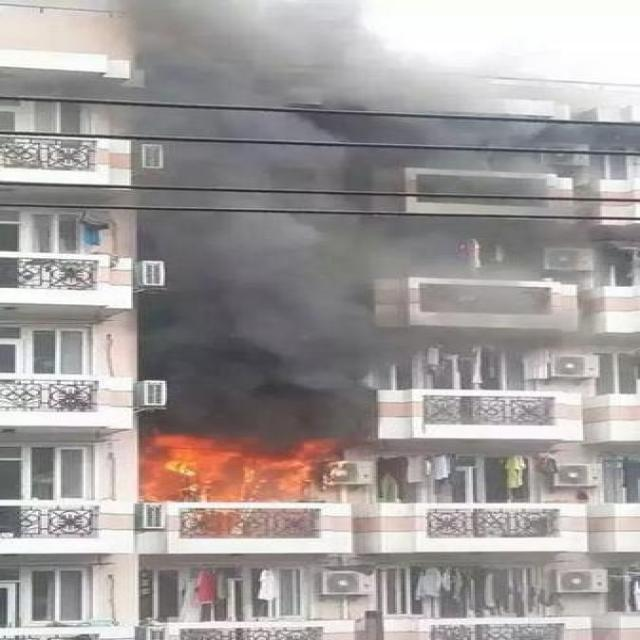Smoke: (57, 0, 609, 465)
